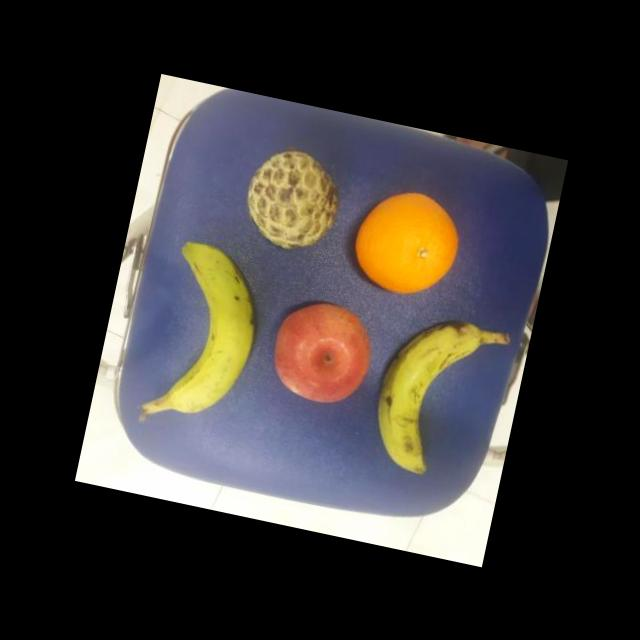Sakya fruit: (234, 140, 348, 261)
apple: (262, 292, 381, 413)
banana: (144, 238, 272, 429), (361, 304, 488, 482)
orange: (343, 181, 467, 305)
